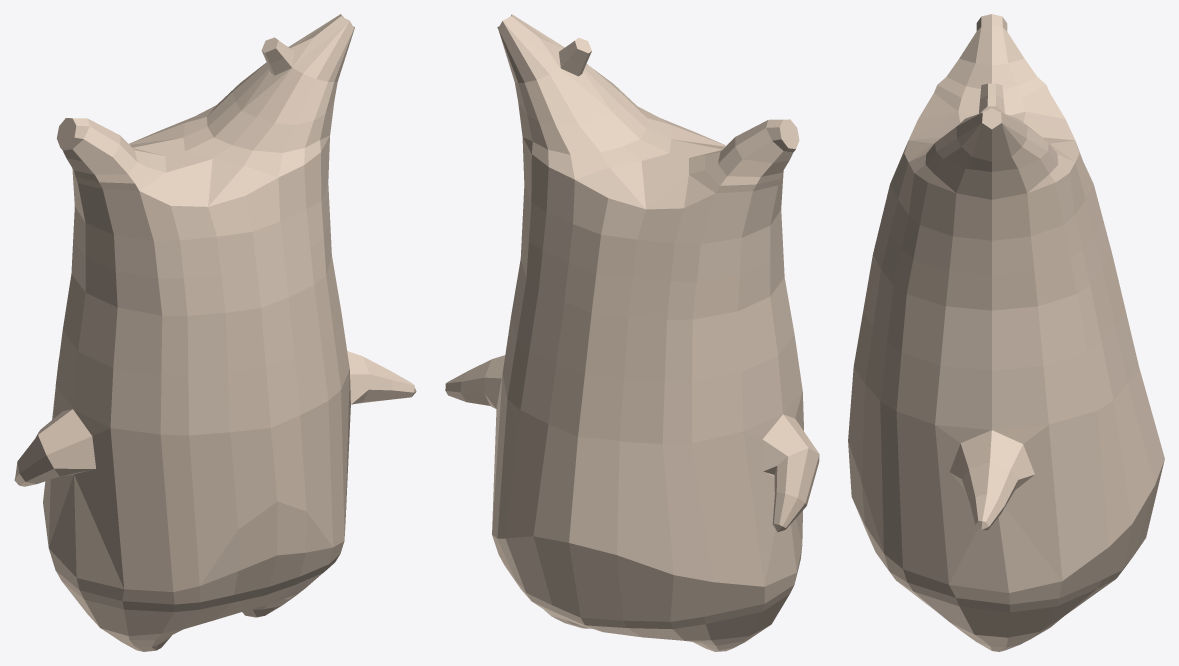
Rendered from frame_0013.obj.
3 views of the same model, side by side, from view 1: azimuth 30°, elevation 25°; view 2: azimuth 150°, elevation 25°; view 3: azimuth 270°, elevation 25° (orthographic).
Visible parts, largest first — view 1: korok; view 2: korok; view 3: korok.
Boxes of the visible parts, x1,y1,x2,y2 form: korok: [14, 14, 416, 651]; korok: [445, 14, 819, 651]; korok: [848, 14, 1164, 651].
Bounding box in the file's own units: 1.46 × 2.16 × 1.07.
